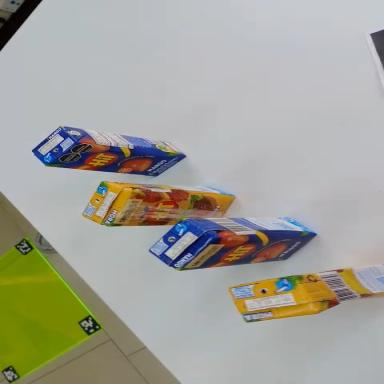HIT-MANGO: (147, 206, 318, 274), (31, 122, 187, 187)
HIT-MORA: (229, 264, 384, 324), (83, 181, 236, 233)
cara_F: (175, 226, 319, 270), (47, 138, 186, 183), (108, 188, 236, 227)
